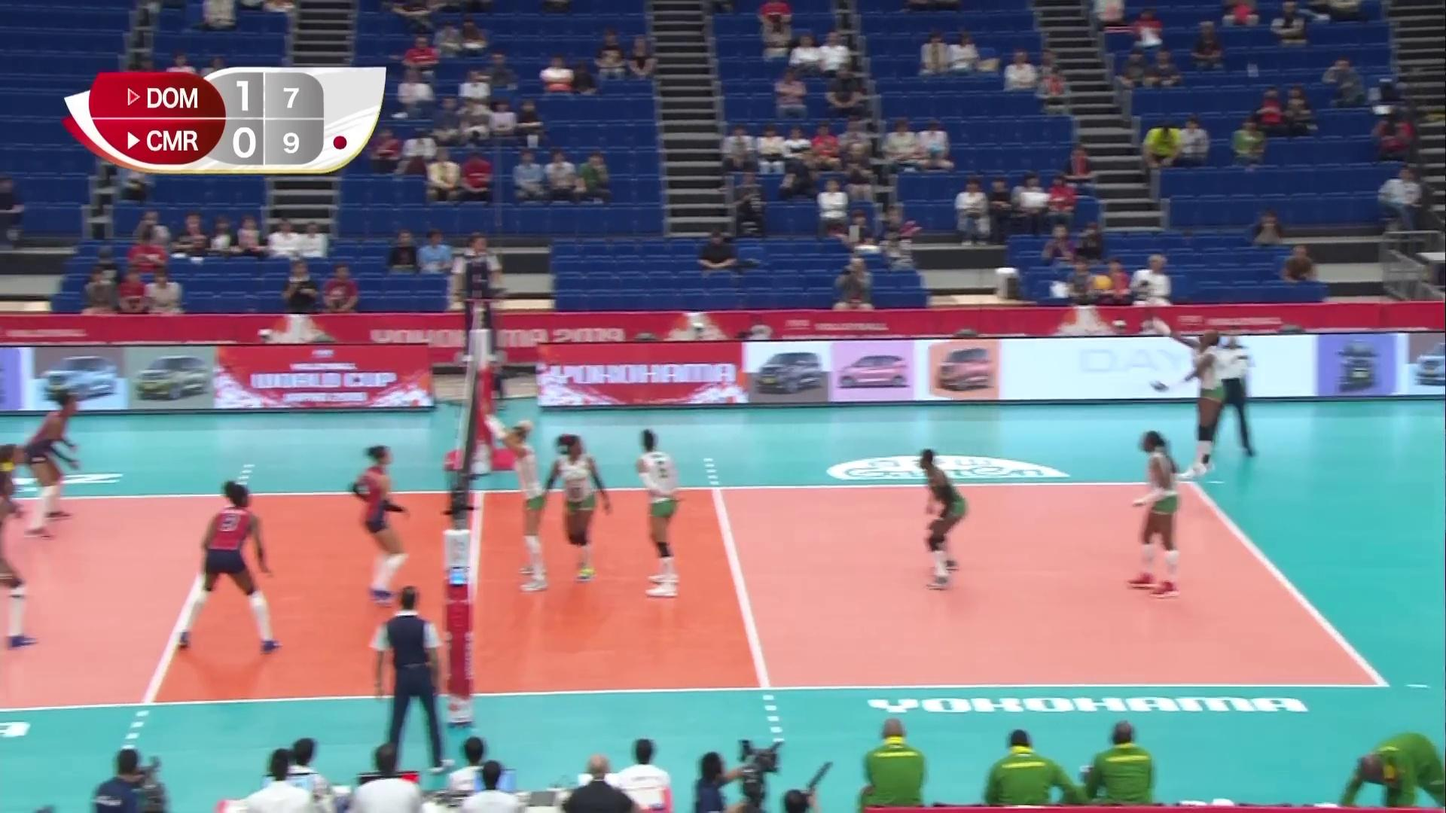player: (174, 487, 279, 659), (1124, 433, 1195, 593), (1153, 321, 1223, 480), (489, 411, 547, 591), (346, 450, 411, 605), (631, 431, 689, 596), (546, 438, 608, 588), (15, 390, 81, 525), (918, 452, 975, 588), (0, 479, 44, 652)
refree: (367, 593, 452, 770), (1202, 330, 1254, 459), (455, 232, 500, 361)
